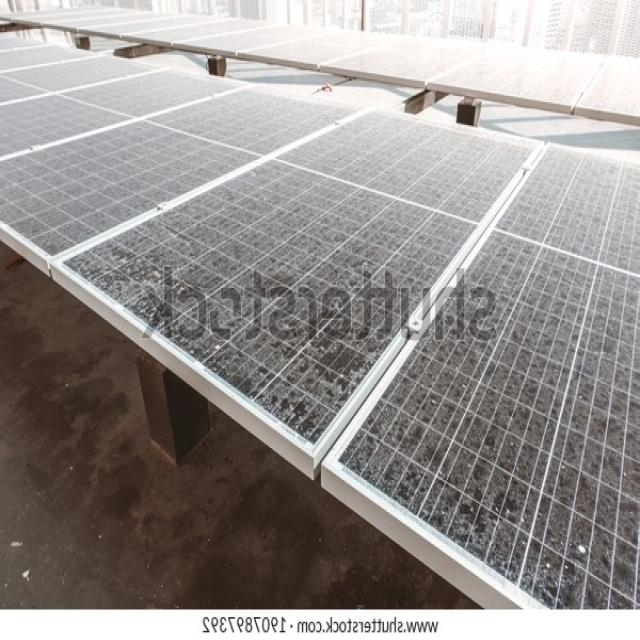faulty: (2, 85, 640, 600)
